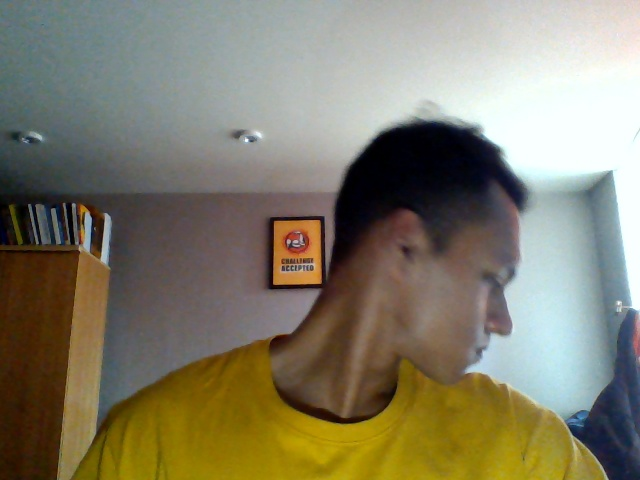no_mask: (348, 279, 532, 387)
